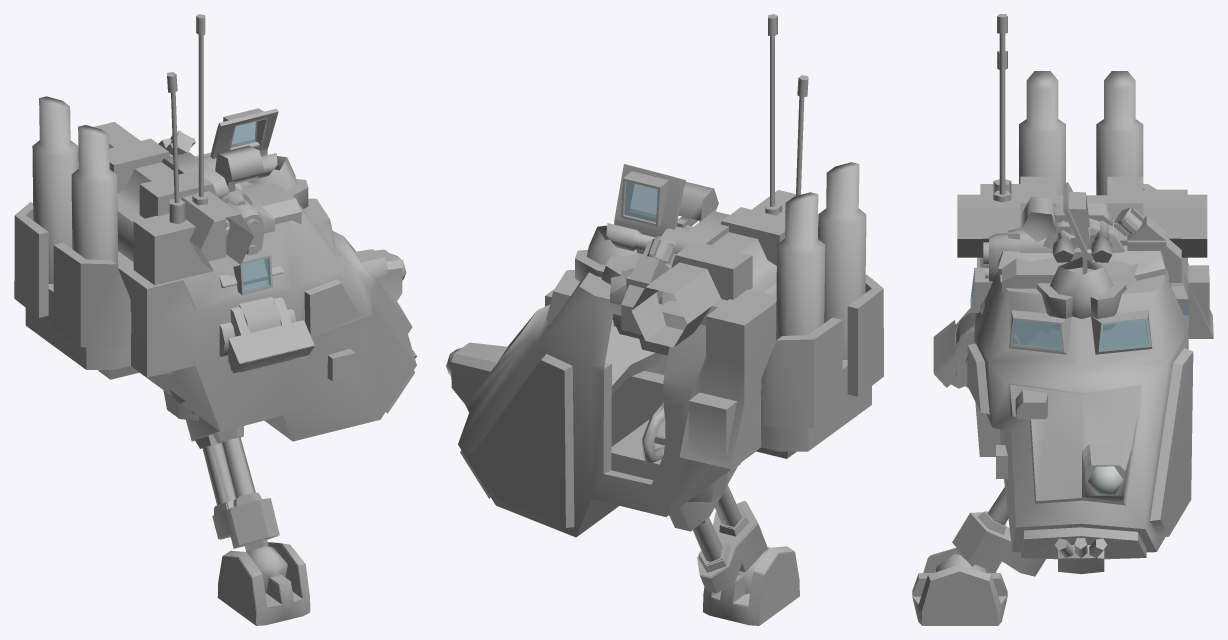
File: sentinel_plasma-0r8625y.glb
3 renders of one model, left to right at view 1: azimuth 30°, elevation 25°; view 2: azimuth 150°, elevation 25°; view 3: azimuth 270°, elevation 25°, orthographic. The views are drawn at different scales.
Visible parts, largest first — view 1: turret, turret_interior, body, legr3, legl2, legl3, legl4, legr4, door, legl1, gun, gun_rot_melta (+1 smaller); view 2: turret, turret_interior, body, legr3, door, legr4, legl3, gun, legl4; view 3: turret, turret_interior, body, legl4, gun, legl3, gun_rot_melta, door, legr2, legl2, legr1, legl1 (+1 smaller).
Boxes of the visible parts, box(x1,y1,x2,y2) form: turret: box(14, 14, 417, 441); turret_interior: box(14, 97, 415, 440); body: box(78, 122, 308, 271); legr3: box(191, 425, 278, 593); legl2: box(170, 297, 313, 413); legl3: box(186, 416, 287, 577); legl4: box(223, 542, 310, 625); legr4: box(217, 543, 309, 625); door: box(210, 108, 278, 158); legl1: box(198, 155, 282, 332); gun: box(158, 130, 263, 255); gun_rot_melta: box(226, 183, 301, 235); turret: box(446, 14, 883, 537); turret_interior: box(451, 163, 883, 537); body: box(575, 190, 818, 355); legr3: box(642, 419, 767, 593); door: box(613, 164, 685, 326); legr4: box(703, 552, 799, 625); legl3: box(642, 408, 768, 577); gun: box(621, 209, 716, 334); legl4: box(703, 546, 799, 607); turret: box(967, 14, 1213, 574); turret_interior: box(967, 71, 1213, 558); body: box(957, 176, 1207, 329); legl4: box(912, 547, 1006, 625); gun: box(983, 207, 1181, 282); legl3: box(936, 487, 1045, 573); gun_rot_melta: box(1002, 257, 1070, 293); door: box(1063, 182, 1089, 274); legr2: box(934, 321, 1029, 388); legl2: box(933, 308, 1031, 373); legr1: box(959, 228, 1124, 344); legl1: box(956, 218, 1124, 343).
Size of the model in its own units: 46.98 by 70.9 by 33.56.
